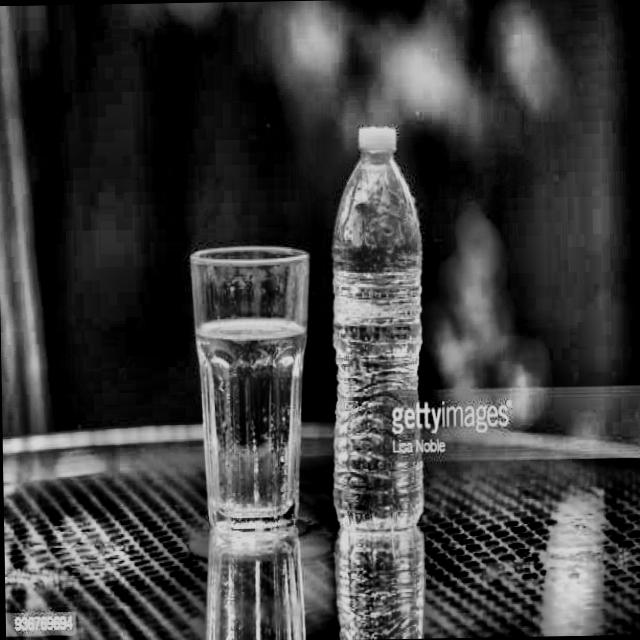waterbottle: (320, 115, 430, 541)
